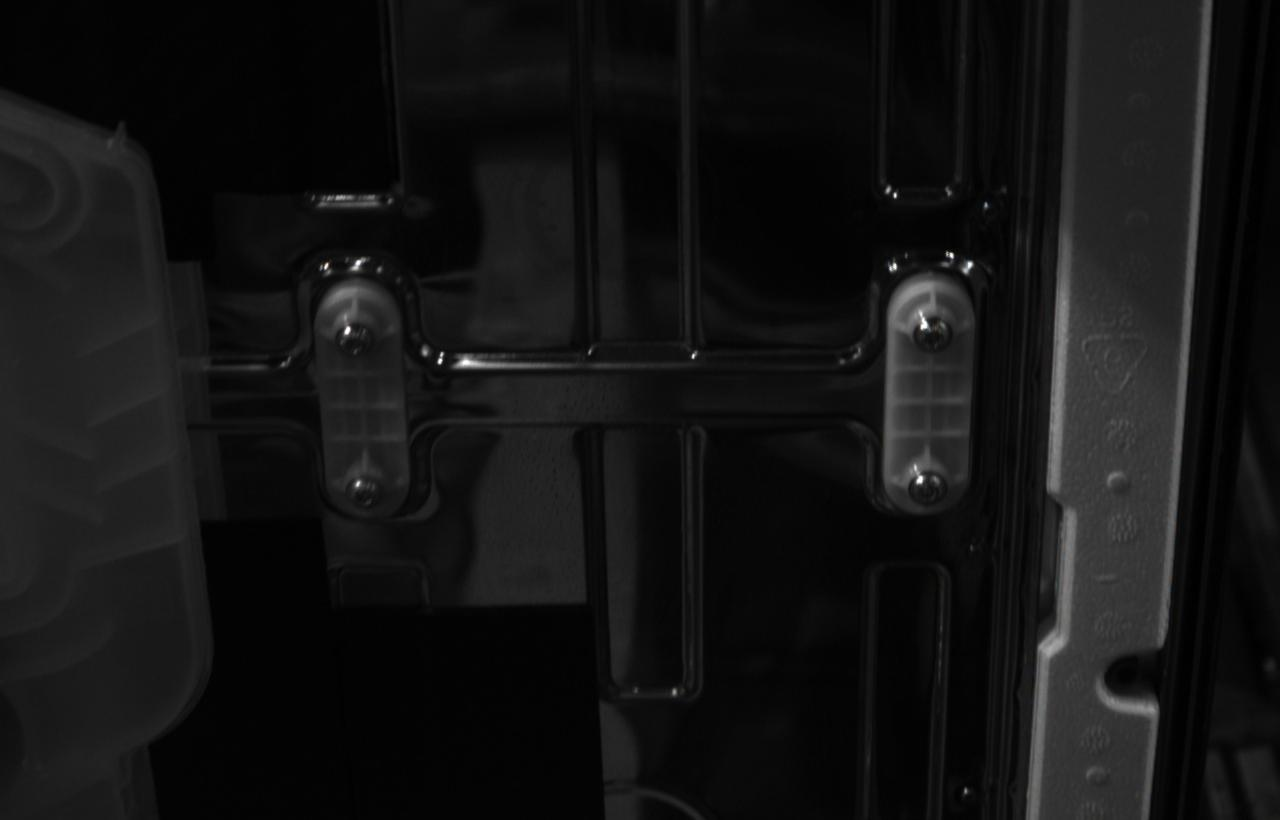vida-ok: (912, 316, 955, 358), (335, 320, 378, 361), (344, 472, 386, 513), (907, 469, 950, 509)
